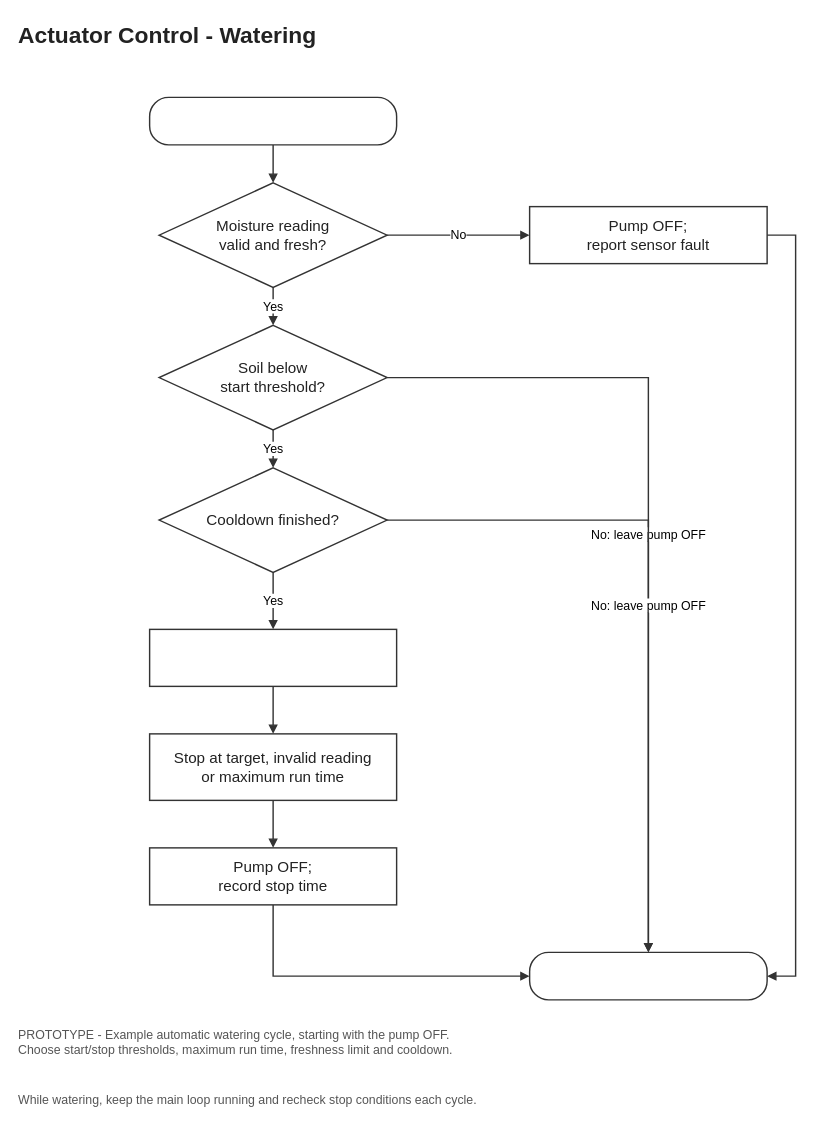
The diagram is 820 pixels wide and 1139 high, and some of its shapes have lost their labels. Here are the shapes that lost their labels. From the top down, the centre of each, then its label:
At (x=272, y=120): "Evaluate watering request".
At (x=272, y=657): "Run pump with repeated checks".
At (x=647, y=975): "Return to control loop".
